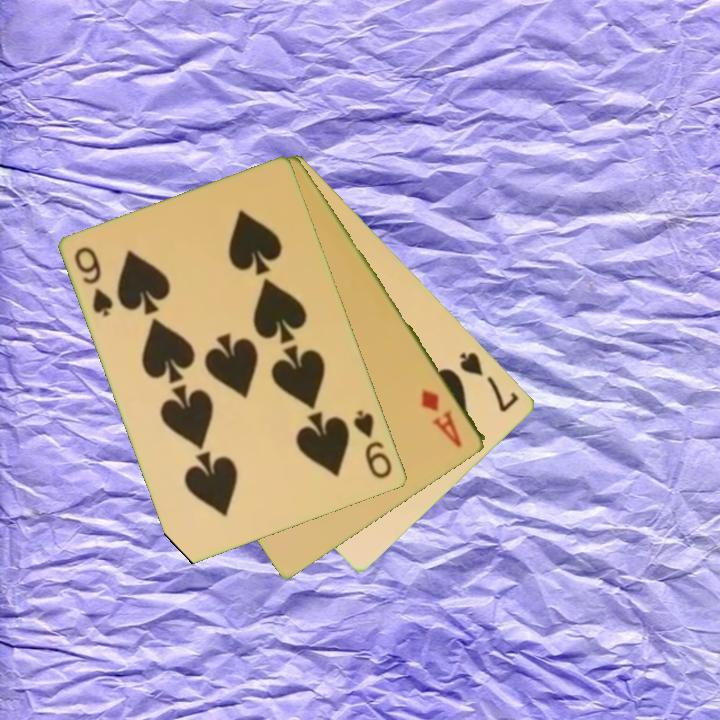7s: (456, 348, 523, 415)
9s: (71, 243, 117, 320), (350, 406, 396, 482)
Ad: (418, 386, 466, 451)
